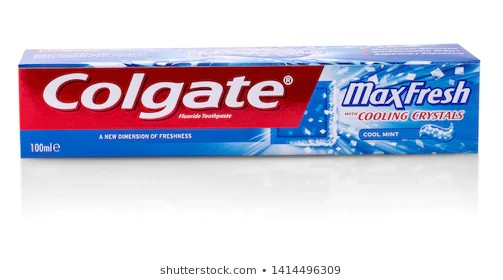lays-small: (18, 44, 478, 162)
